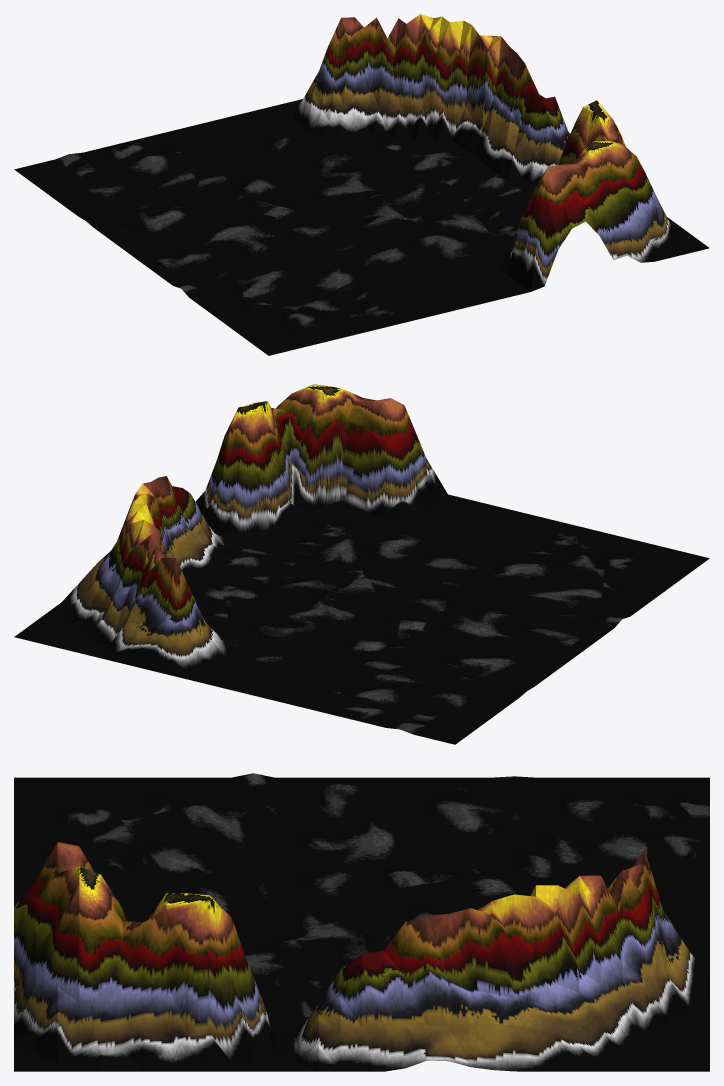
File: Terrain.glb
3 renders of one model, top to bottom at view 1: azimuth 30°, elevation 25°; view 2: azimuth 150°, elevation 25°; view 3: azimuth 270°, elevation 25°, orthographic. The views are drawn at different scales.
Parts seen in each view (by area): view 1: Terrain; view 2: Terrain; view 3: Terrain.
Boxes of the visible parts, x1=… form: Terrain: x1=14, y1=14, x2=709, y2=355; Terrain: x1=14, y1=384, x2=709, y2=744; Terrain: x1=14, y1=773, x2=709, y2=1071.
Size of the model in its own units: 484 by 111 by 484.
Materials: 1 (1 with a texture image).
